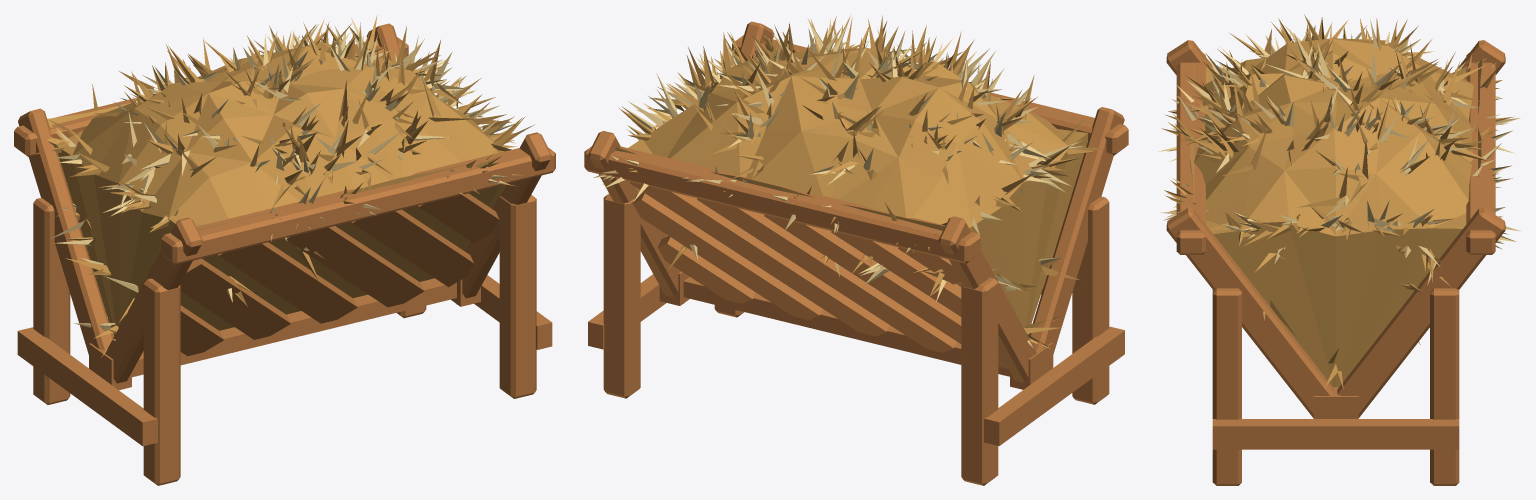
Rendered from hay-full.glb.
The picture shows the model from 3 angles, left to right: view 1: azimuth 30°, elevation 25°; view 2: azimuth 150°, elevation 25°; view 3: azimuth 270°, elevation 25°; orthographic projection.
Parts seen in each view (by area): view 1: frame, hay, slats, straw_gold, straw_light; view 2: frame, hay, slats, straw_gold, straw_light; view 3: hay, frame, straw_gold, straw_light.
Part boxes in pixels (x1,y1,x2,y2): frame: (14, 23, 555, 485); hay: (47, 40, 506, 335); slats: (108, 193, 499, 356); straw_gold: (21, 15, 526, 357); straw_light: (51, 16, 534, 333); frame: (584, 21, 1128, 485); hay: (615, 48, 1093, 334); slats: (630, 182, 1047, 368); straw_gold: (603, 15, 1105, 348); straw_light: (593, 18, 1084, 348); hay: (1190, 38, 1482, 387); frame: (1166, 40, 1505, 485); straw_gold: (1161, 14, 1514, 388); straw_light: (1158, 20, 1520, 285).
Size of the model in its own units: 1.36 by 1.12 by 1.06.
